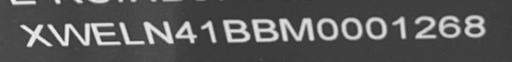letter: (46, 20, 92, 47), (277, 17, 317, 41), (141, 19, 175, 45), (88, 20, 122, 46), (18, 21, 52, 47), (250, 16, 280, 44), (116, 19, 146, 45), (220, 18, 252, 42), (412, 14, 438, 41), (338, 15, 364, 41), (172, 19, 200, 43), (362, 16, 388, 41), (462, 13, 488, 37), (436, 15, 462, 39), (314, 17, 338, 41), (198, 18, 220, 44), (391, 15, 409, 41)
